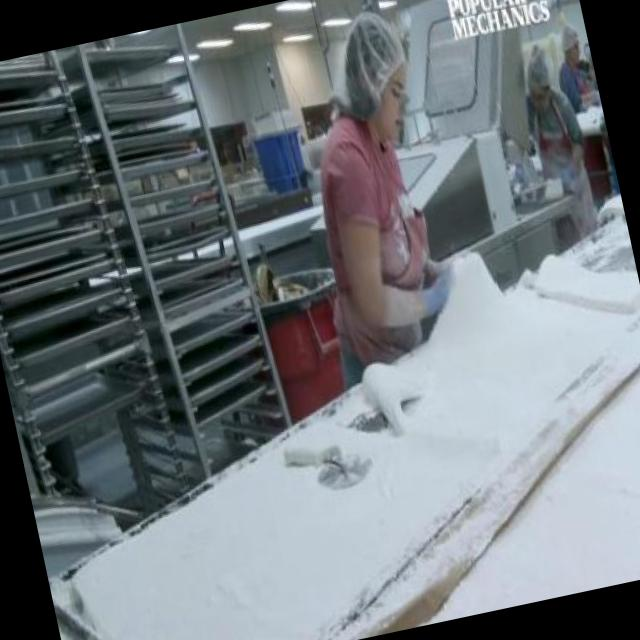hairnet: (330, 7, 413, 98)
